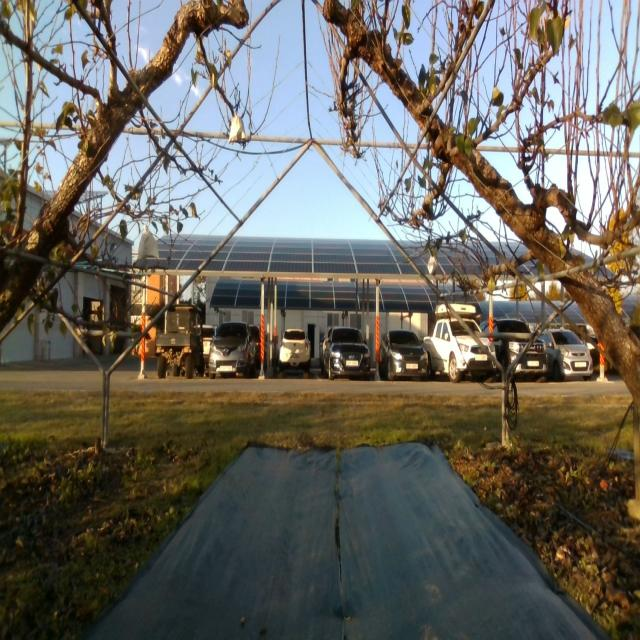pearbags: (138, 232, 159, 260), (228, 116, 246, 143)
